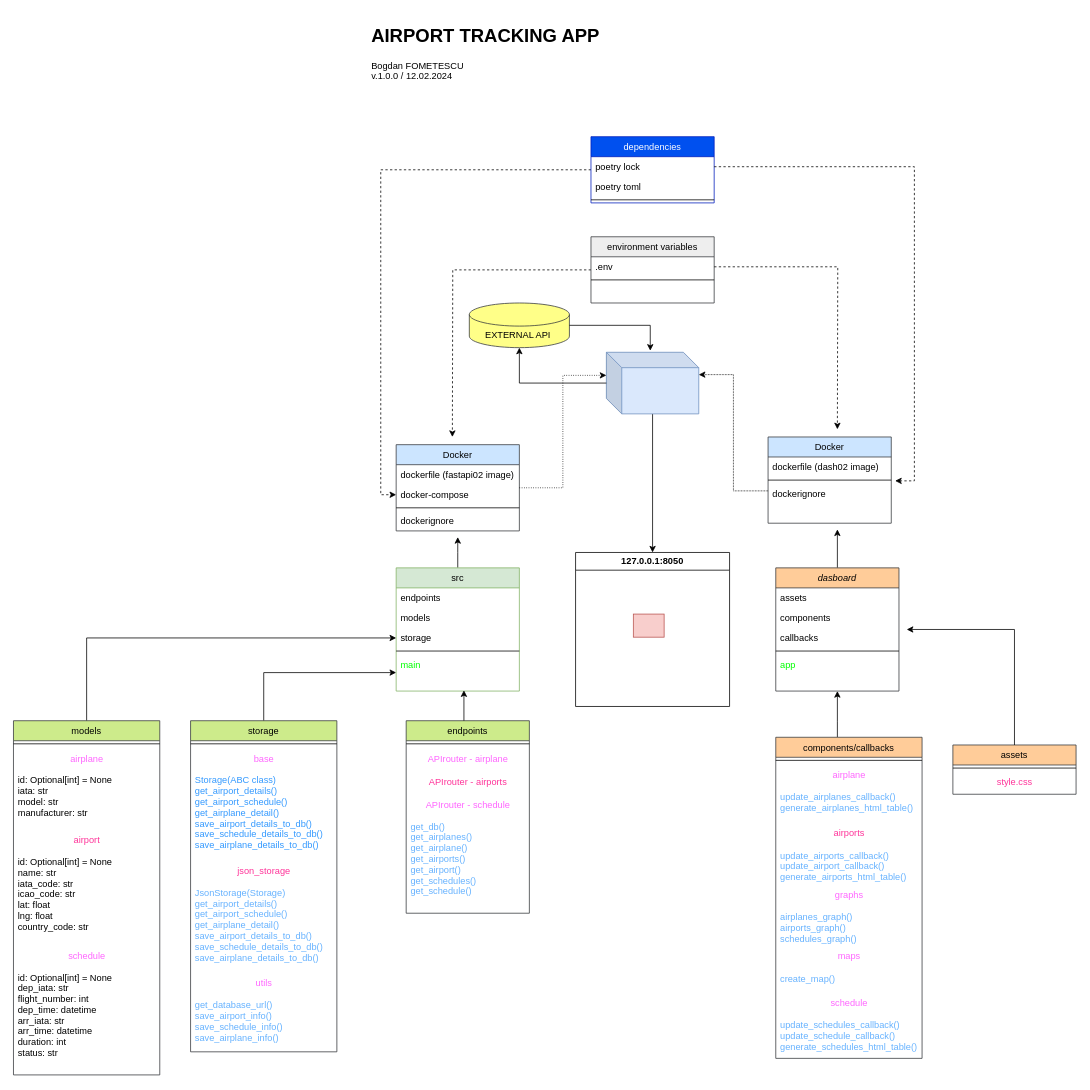
Image size: 1090x1090. Some labels were removed from this diagram. Here are the shapes that lost their labels. From the top down, the centre of each, then its label:
At [652,383]: "Docker Container".
At [648,625]: "UI".
